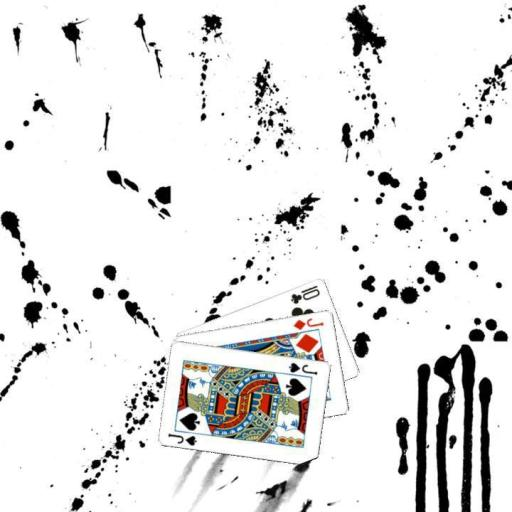card-corner: (288, 282, 322, 305), (165, 430, 198, 447), (290, 315, 325, 331), (286, 359, 318, 376)
